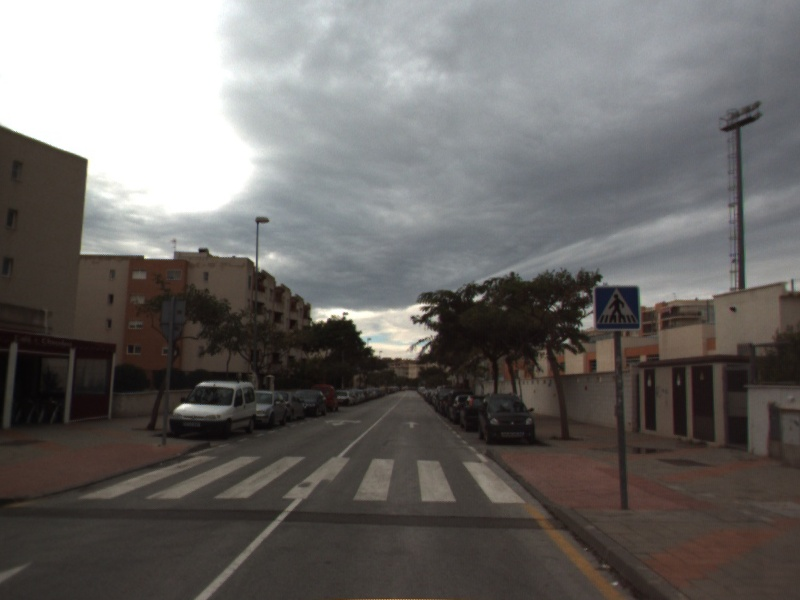STRAIGHT: (402, 419, 421, 430)
